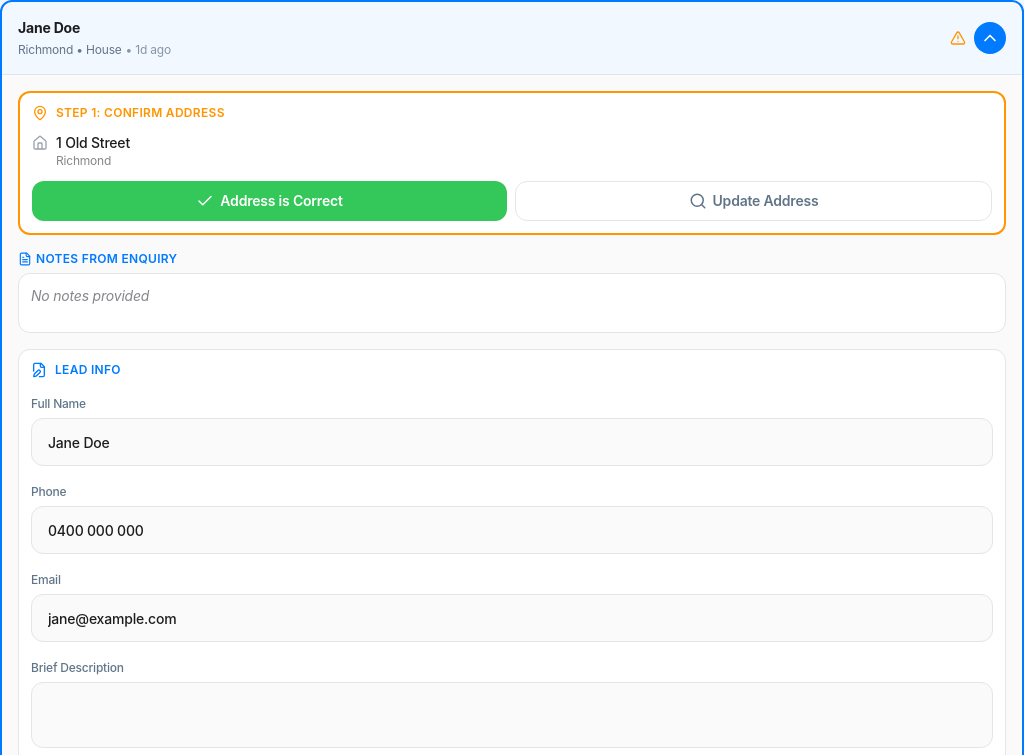
it: LeadBookingCard address capture › should keep the unit with its street number when Places returns no street components
Click the button "Update Address" at point(754, 201), box [515,181,992,221]
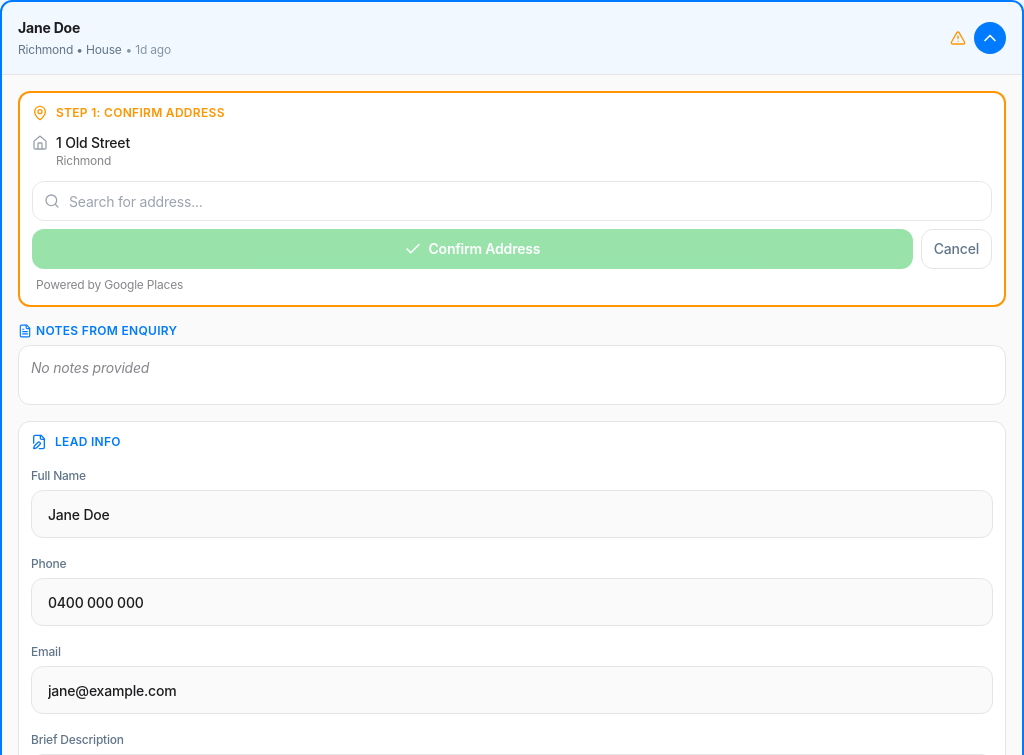
Type "smith" into the field with placeholder "Search for address..." at point(512, 201), box [32,181,992,221]
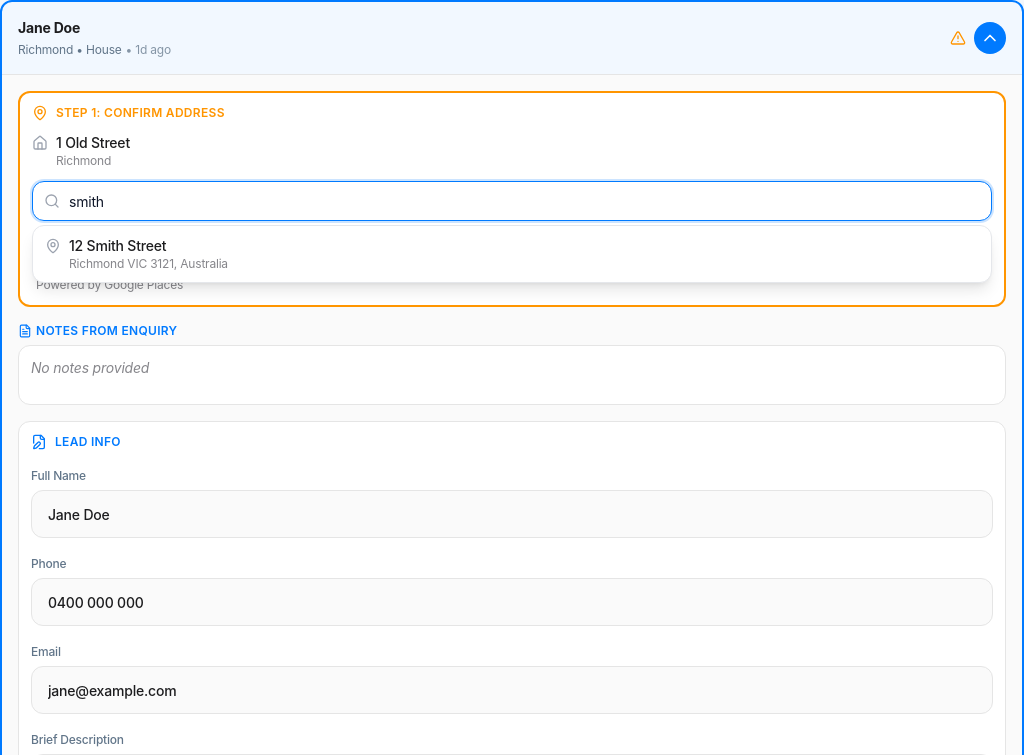
Click the button "12 Smith Street Richmond VIC 3121, Australia" at point(118, 246), box [33,226,991,282]
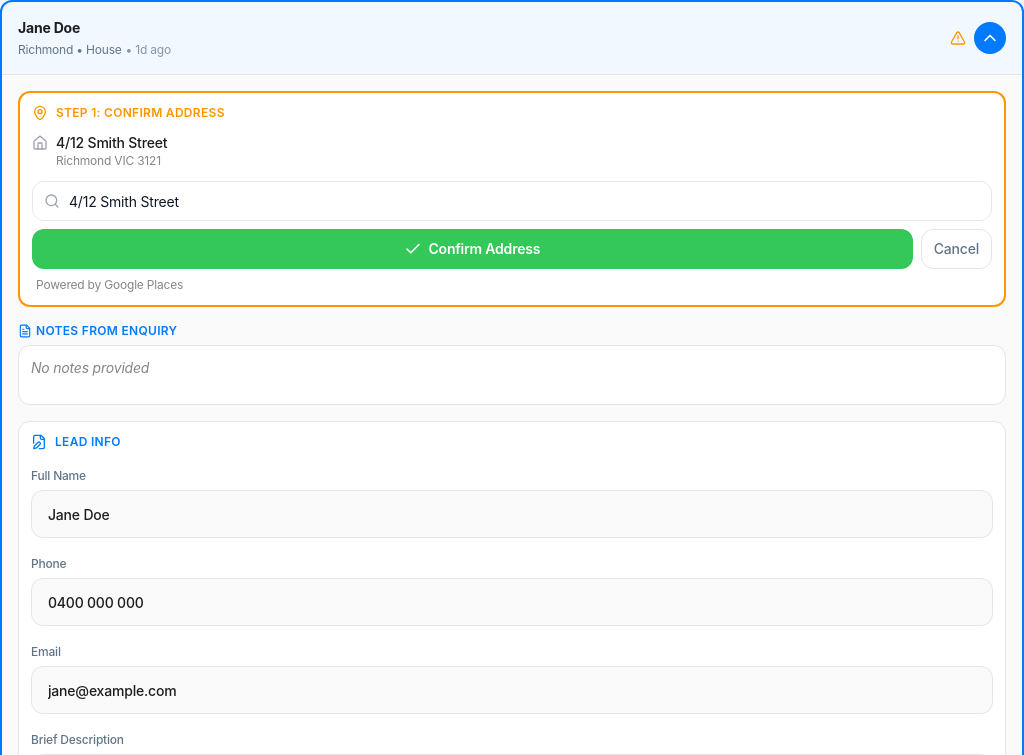
Result: the field with placeholder "Search for address..." below "Richmond VIC 3121" holds "4/12 Smith Street" at [32,181,992,221]
